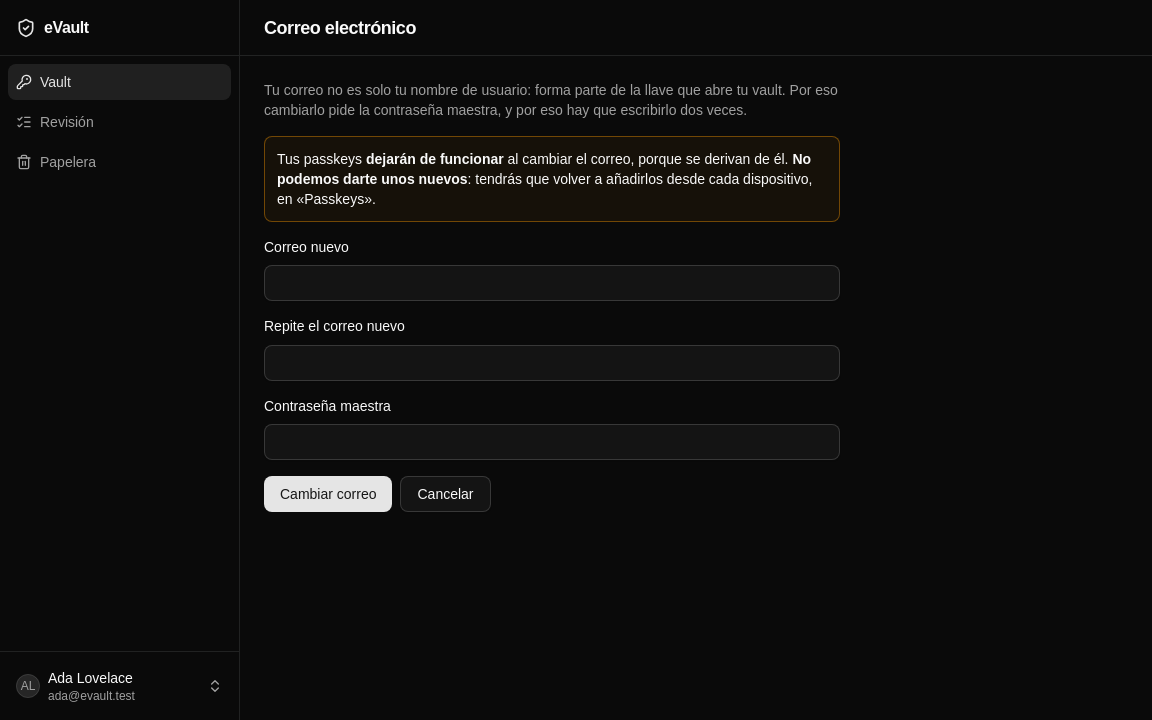
it: changing the email › updates the store's email only after the server confirms
Type "ada.lovelace@evault.test" into the field labelled "Correo nuevo". click: {"x": 552, "y": 283}
box: [264,265,840,301]
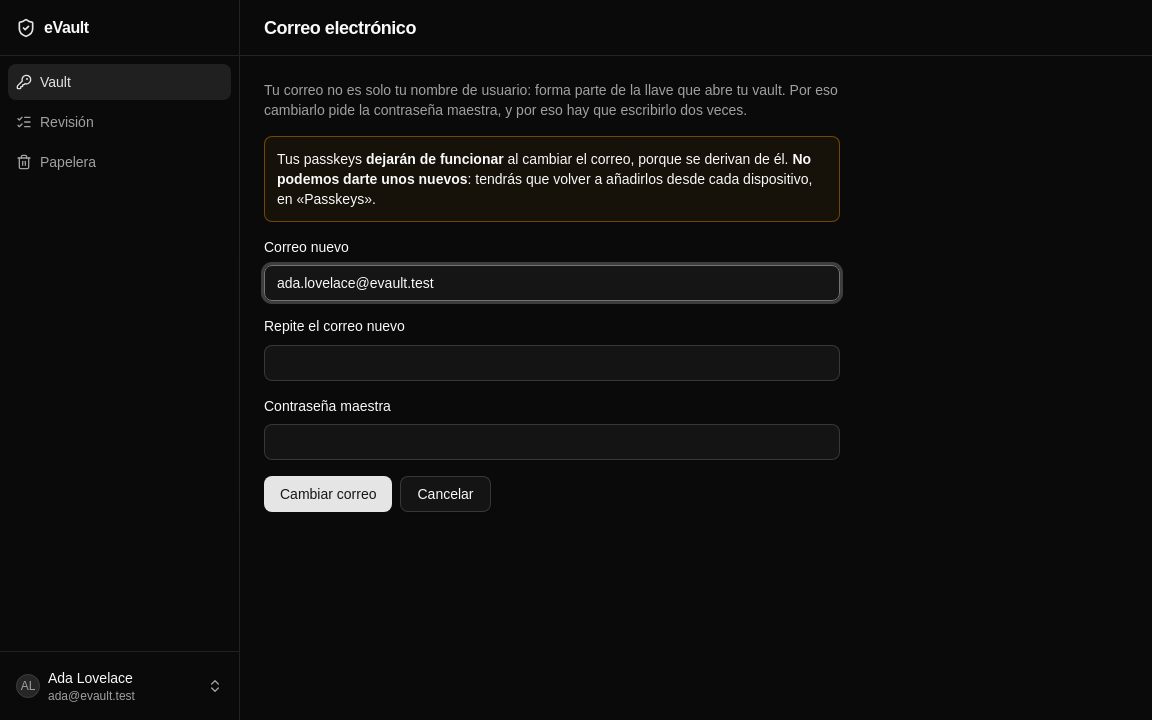
Type "ada.lovelace@evault.test" into the field labelled "Repite el correo nuevo". click: {"x": 552, "y": 362}
box: [264,344,840,380]
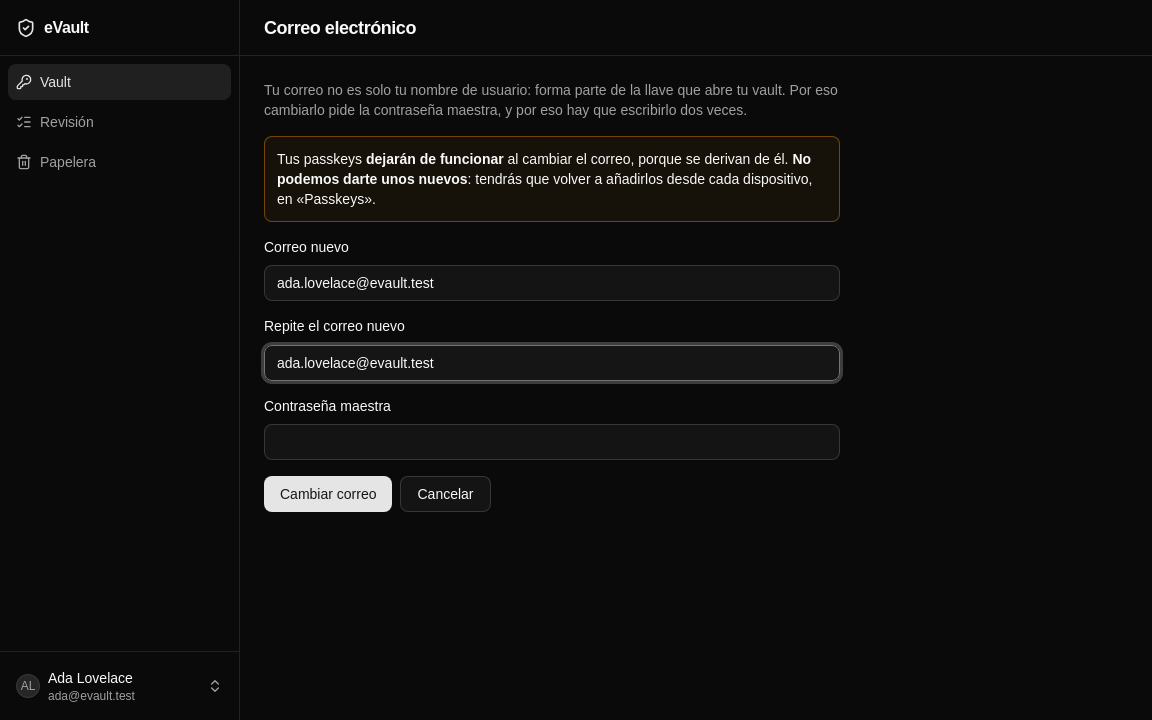
Type "la contraseña" into the password field labelled "Contraseña maestra". click: {"x": 552, "y": 442}
box: [264,424,840,460]
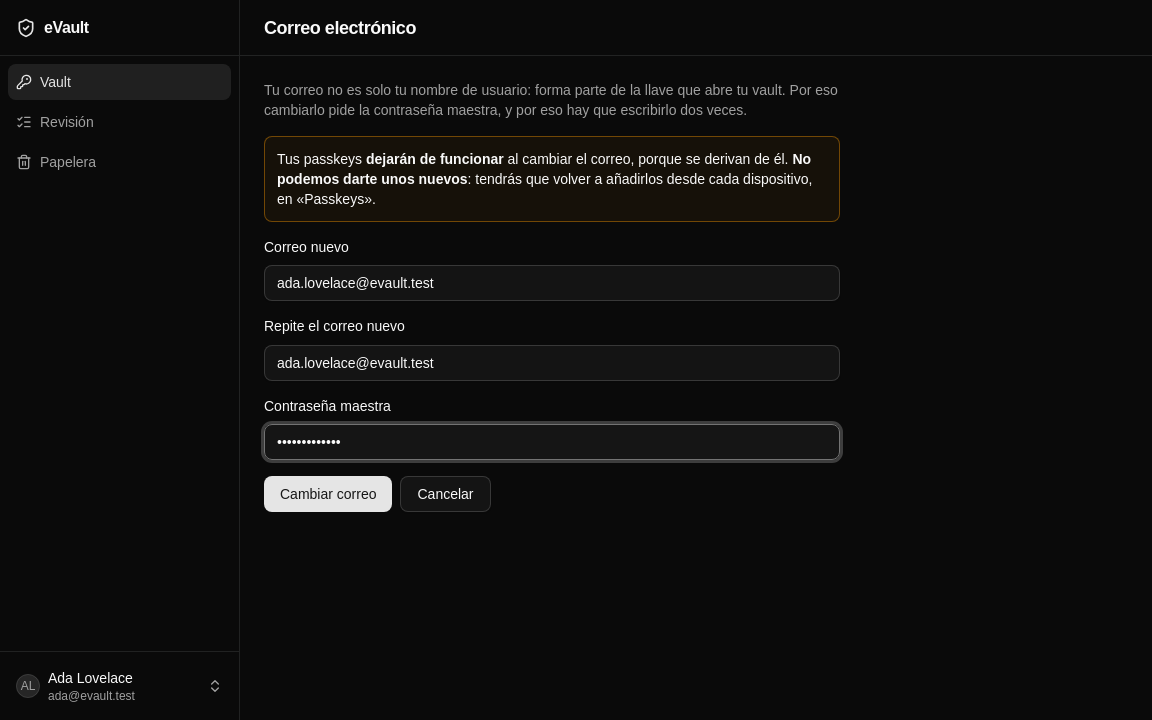
Click the button "Cambiar correo". click: {"x": 328, "y": 494}
box: [264,476,392,512]
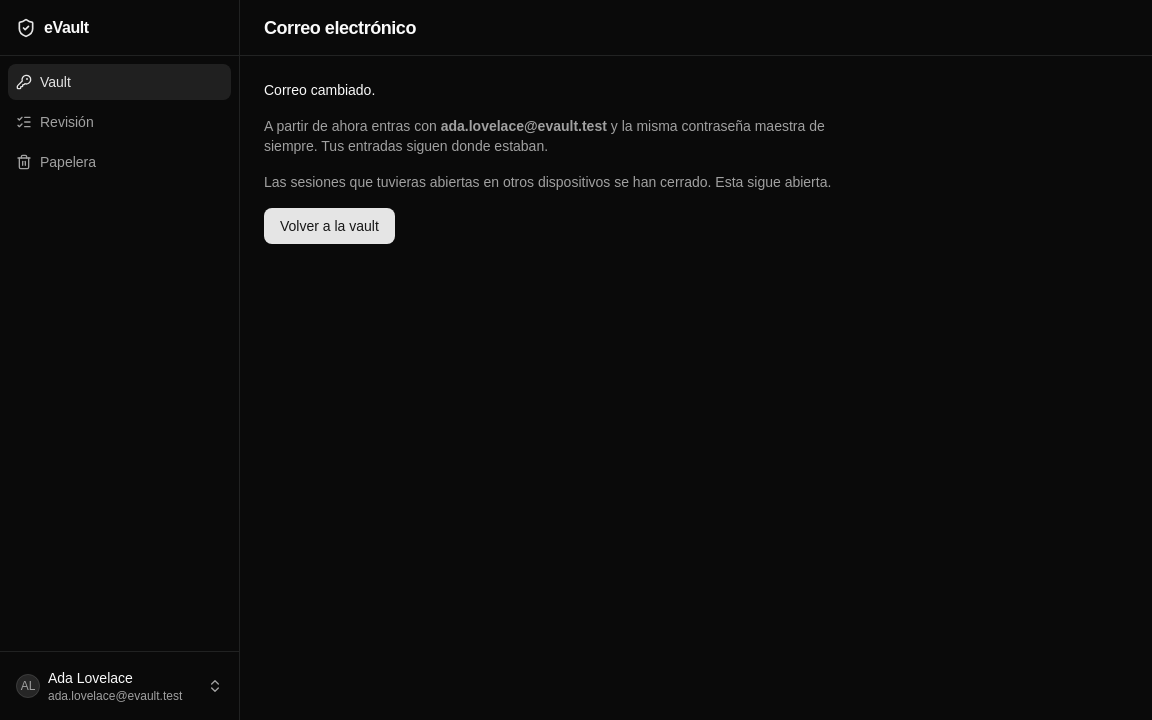
Expected: the text "Correo cambiado." is shown, [264,82,375,98]
Expected: the 2nd text "ada.lovelace@evault.test" is shown, [48,688,199,704]
